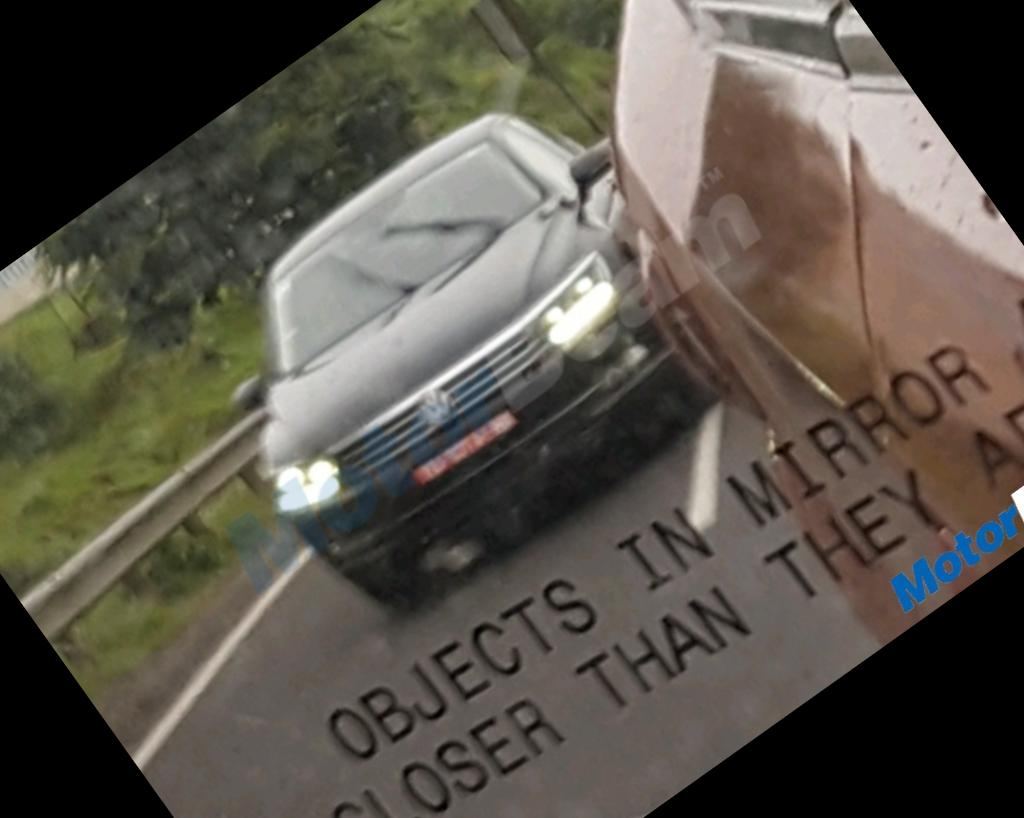plate: (399, 393, 539, 511)
